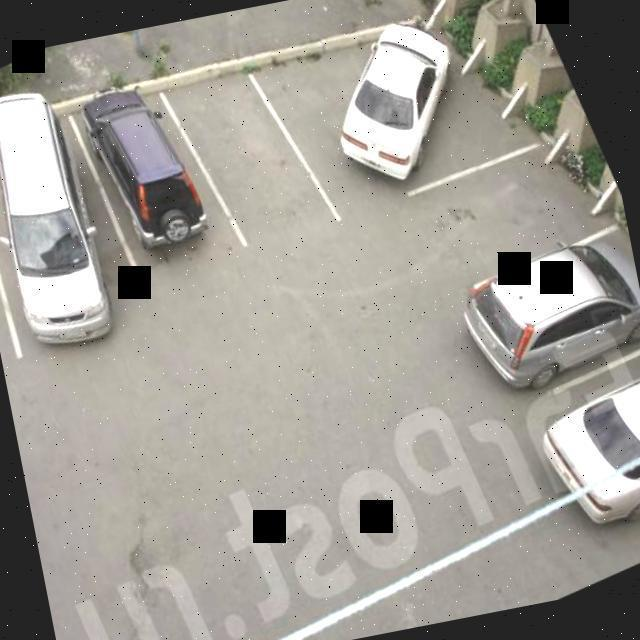car: (277, 0, 527, 227), (56, 58, 264, 319), (0, 87, 158, 376), (457, 220, 640, 408), (525, 355, 640, 537)
free: (163, 48, 337, 268), (392, 132, 600, 304)
